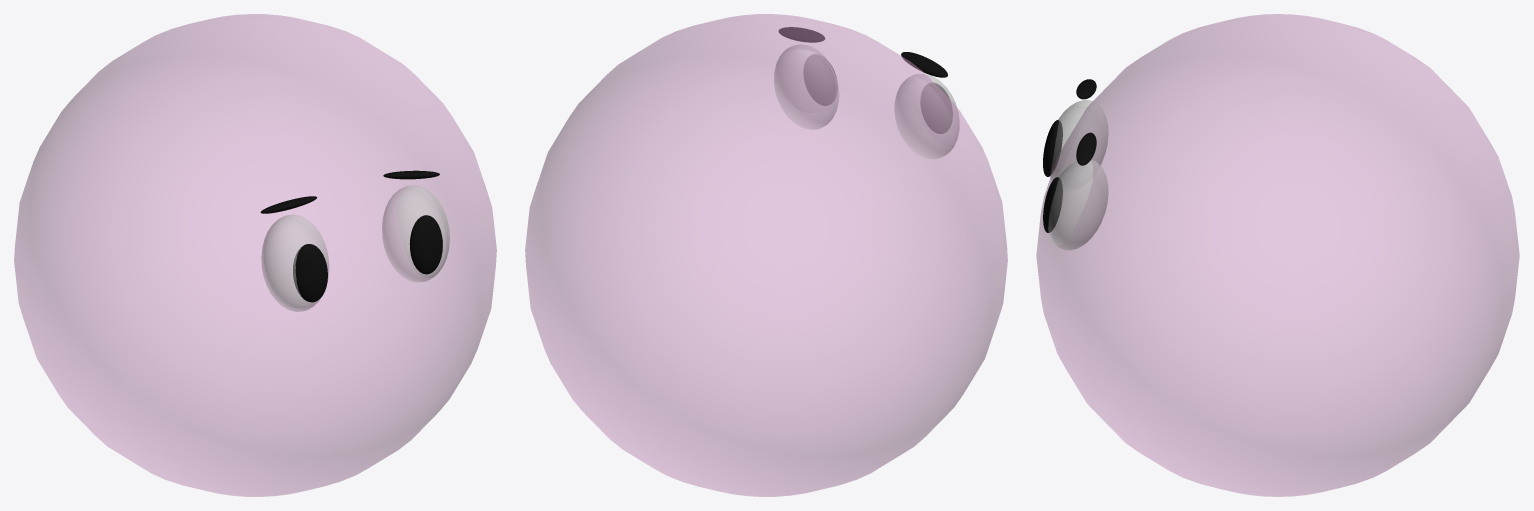
The model's file is modeloBurbuja.glb.
The picture shows the model from 3 angles, left to right: view 1: azimuth 30°, elevation 25°; view 2: azimuth 150°, elevation 25°; view 3: azimuth 270°, elevation 25°; orthographic projection.
Visible parts, largest first — view 1: Sphere, Sphere.002, Sphere.005, Sphere.003, Sphere.001; view 2: Sphere, Sphere.002, Sphere.005, Sphere.003, Sphere.001, Sphere.004, Sphere.006; view 3: Sphere, Sphere.005, Sphere.002, Sphere.001, Sphere.003.
Part boxes in pixels (x1=…): Sphere: x1=14, y1=14, x2=496, y2=496; Sphere.002: x1=261, y1=214, x2=329, y2=311; Sphere.005: x1=382, y1=185, x2=449, y2=282; Sphere.003: x1=293, y1=244, x2=327, y2=302; Sphere.001: x1=409, y1=215, x2=442, y2=274; Sphere: x1=525, y1=14, x2=1007, y2=496; Sphere.002: x1=894, y1=74, x2=959, y2=159; Sphere.005: x1=774, y1=44, x2=839, y2=129; Sphere.003: x1=920, y1=83, x2=952, y2=133; Sphere.001: x1=803, y1=54, x2=836, y2=105; Sphere.004: x1=901, y1=52, x2=947, y2=77; Sphere.006: x1=778, y1=27, x2=825, y2=42; Sphere: x1=1036, y1=14, x2=1519, y2=496; Sphere.005: x1=1048, y1=159, x2=1108, y2=250; Sphere.002: x1=1050, y1=100, x2=1108, y2=180; Sphere.001: x1=1043, y1=177, x2=1062, y2=232; Sphere.003: x1=1043, y1=120, x2=1062, y2=176.
Bounding box in the file's own units: 0.6432 × 0.6432 × 0.6432.
